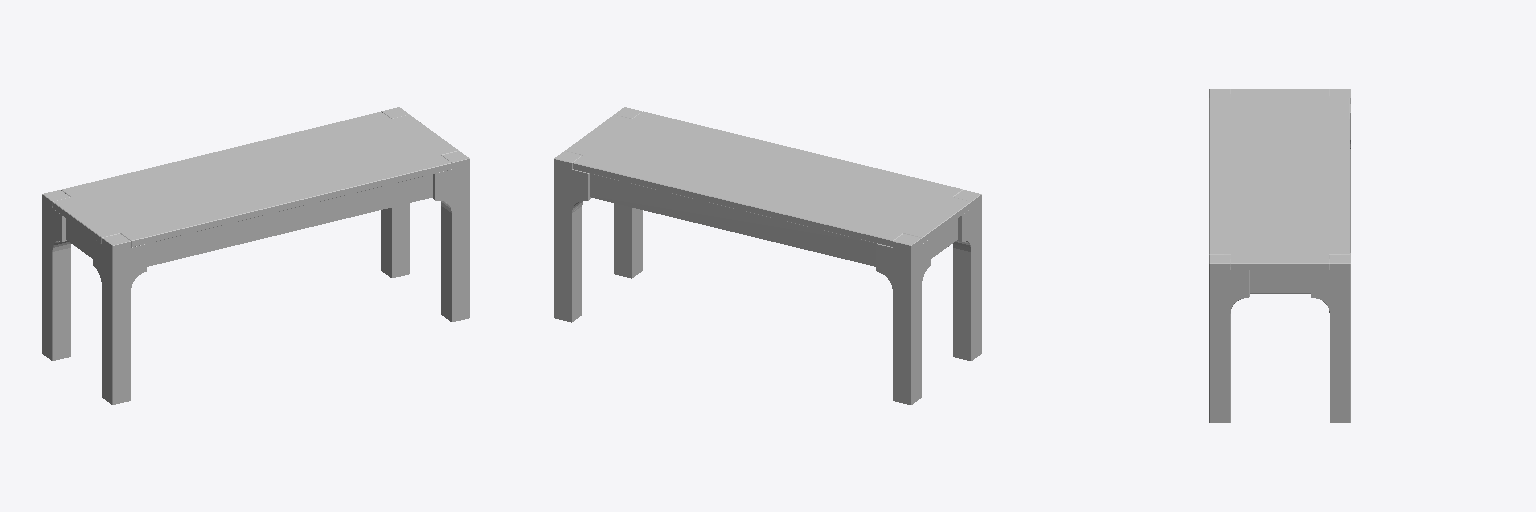
Rendered from bank_ikeaEkedalen.obj.
3 renders of one model, left to right at view 1: azimuth 30°, elevation 25°; view 2: azimuth 150°, elevation 25°; view 3: azimuth 270°, elevation 25°, orthographic.
Parts seen in each view (by area): view 1: bankEke_Cube.080; view 2: bankEke_Cube.080; view 3: bankEke_Cube.080.
Part boxes in pixels (x1,y1,x2,y2): bankEke_Cube.080: (42, 107, 469, 404); bankEke_Cube.080: (554, 107, 981, 404); bankEke_Cube.080: (1209, 89, 1350, 422).
Size of the model in its own units: 1.05 by 0.4489 by 0.3604.